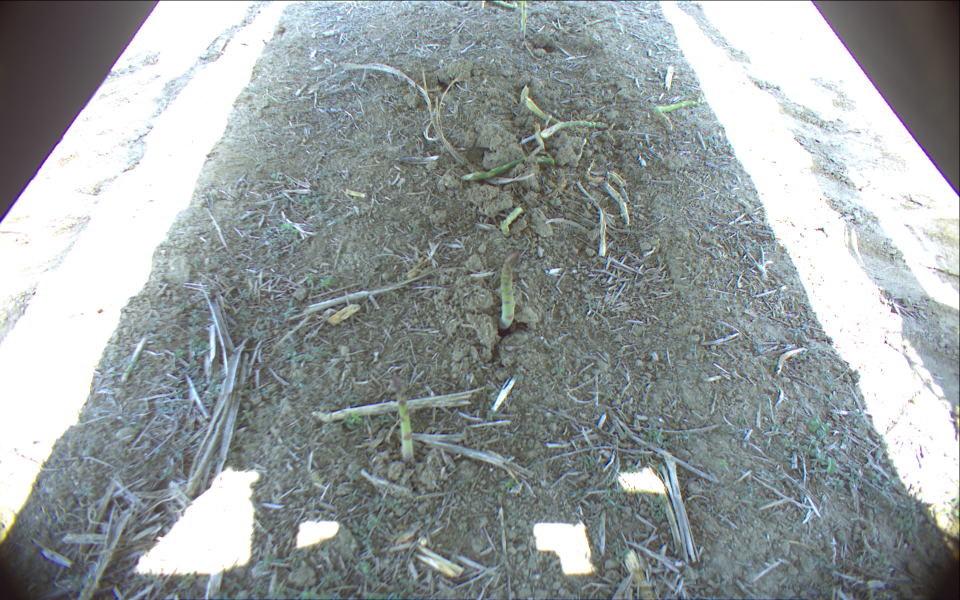aspa: (462, 154, 556, 182), (652, 101, 704, 131), (395, 393, 415, 464), (525, 94, 567, 125), (542, 119, 608, 138), (499, 262, 517, 327), (500, 205, 524, 235), (491, 1, 516, 11), (520, 1, 526, 37)
